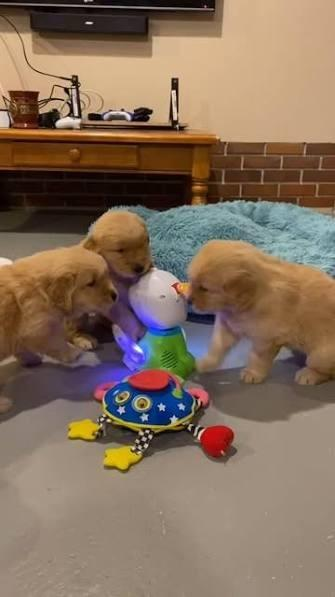puppy-dog: (180, 238, 335, 386), (2, 210, 157, 349), (0, 245, 117, 368)
